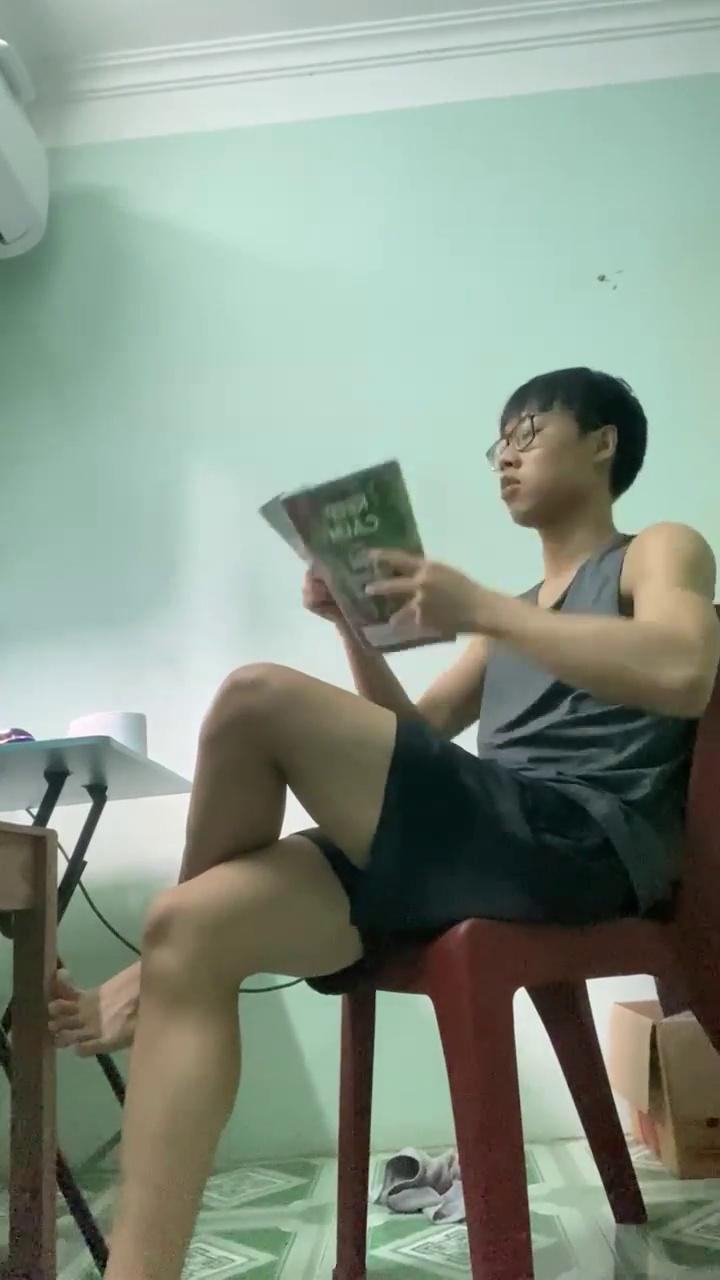BadPosture: (105, 667, 399, 1279)
